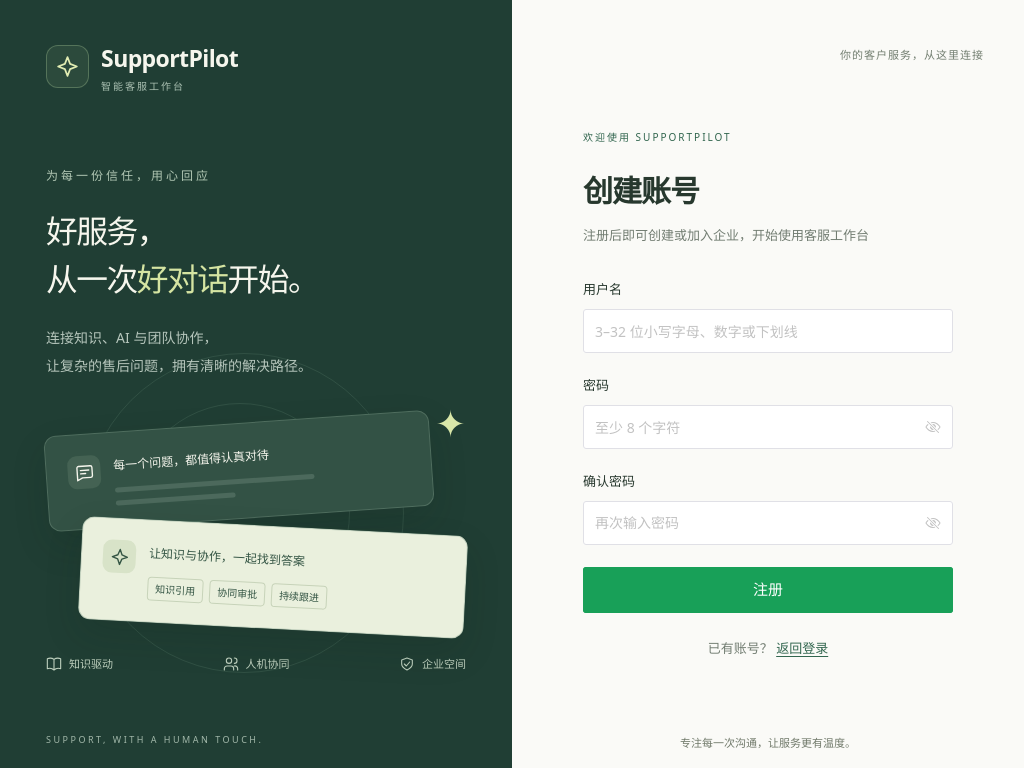
注册页本地校验 › 两次密码不一致：本地拦截并提示，不发注册请求
In the field with placeholder "3–32 位小写字母、数字或下划线": (768, 331) [595,309,941,353], type "alice"
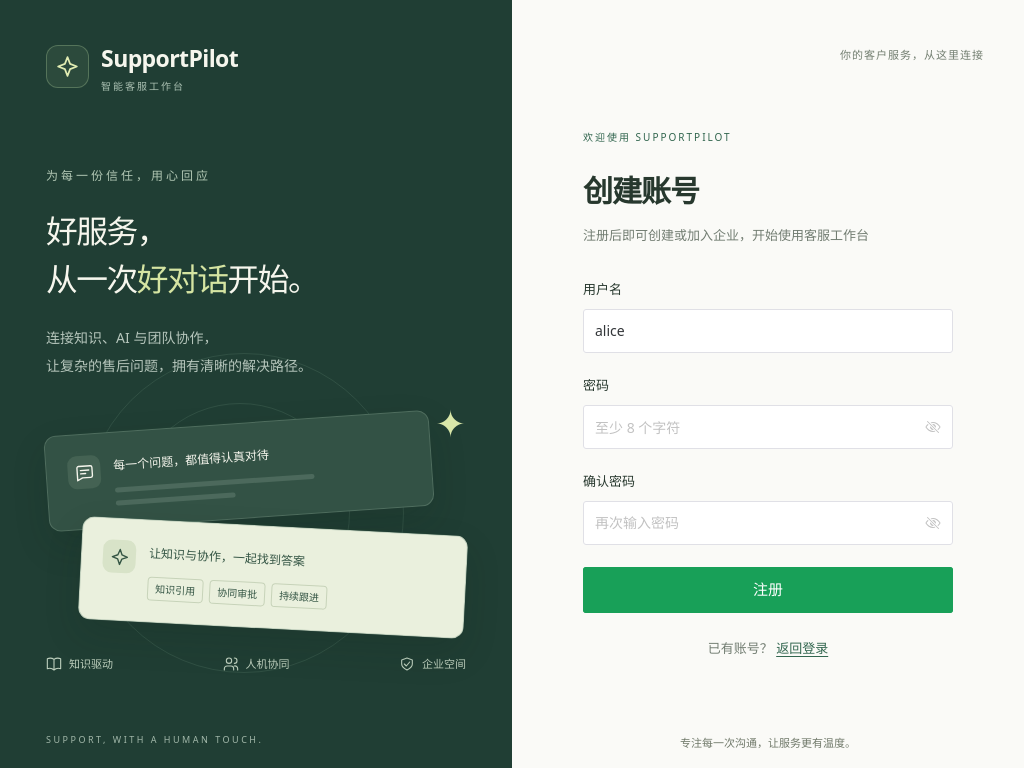
In the password field with placeholder "至少 8 个字符": (758, 427) [595,405,921,449], type "password-123"
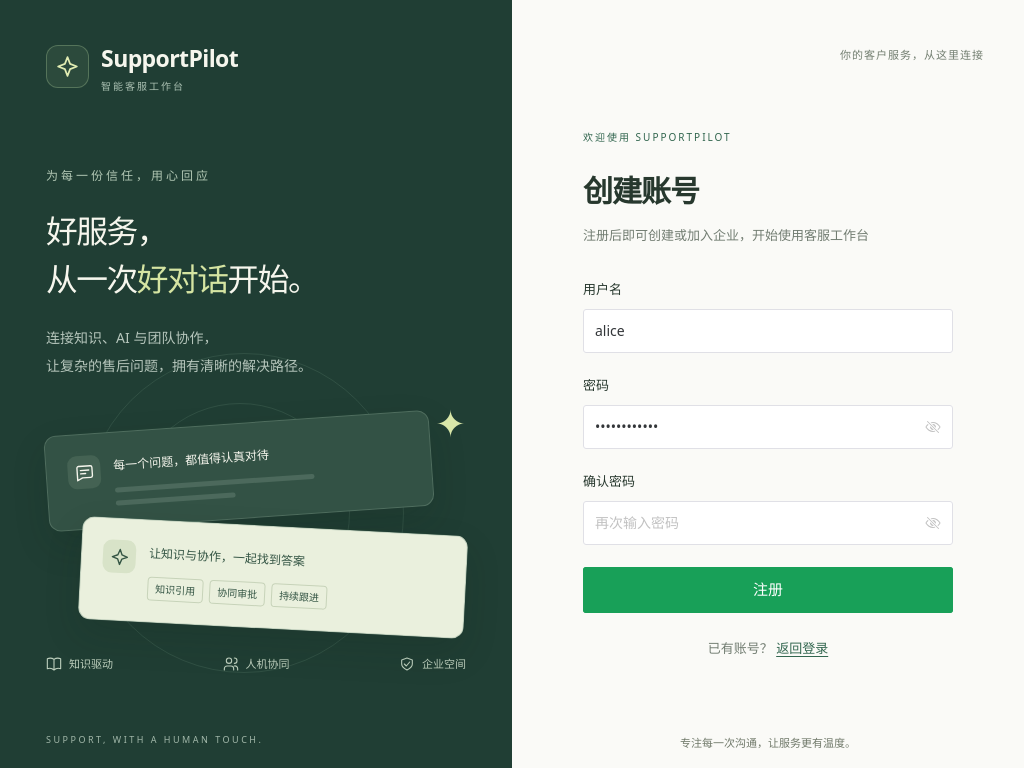
In the password field with placeholder "再次输入密码": (758, 523) [595,501,921,545], type "password-456"
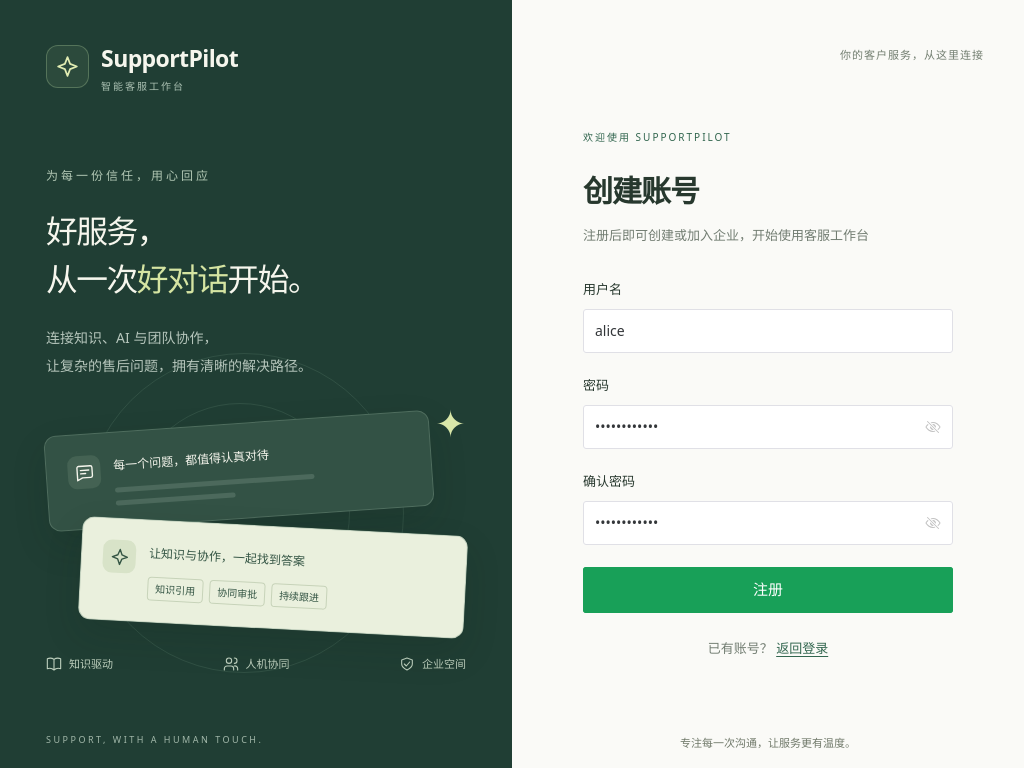
Click the button "注册": (768, 590) [583,567,953,613]
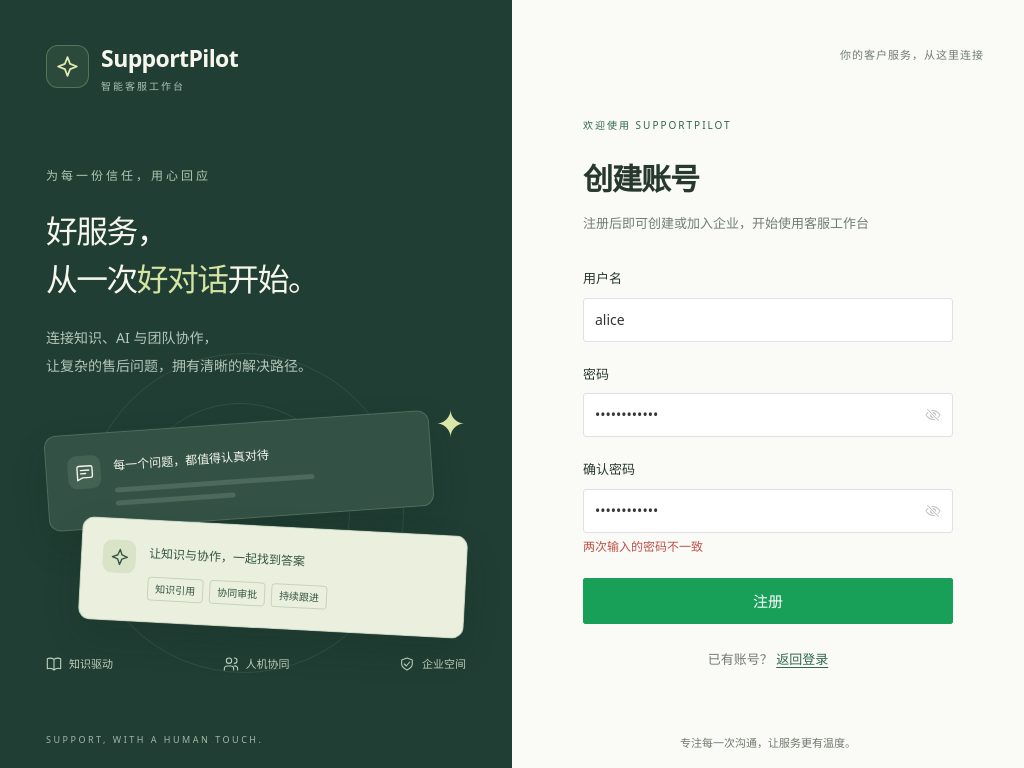
Check: the text "两次输入的密码不一致" is shown, box [583,538,703,555]
